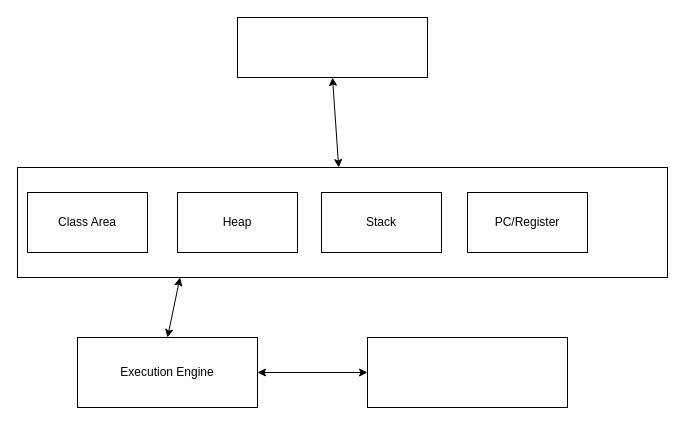
Image size: 685x425. Some labels were removed from this diagram. The shapes that lost their labels are listed below. From the top down, each one's centre as x and y in pixels, then its label:
At point (332, 47): "ClassLoader".
At point (467, 372): "Naive Method Interface".
